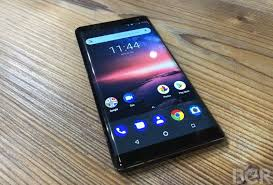nokia: (75, 10, 227, 176)
